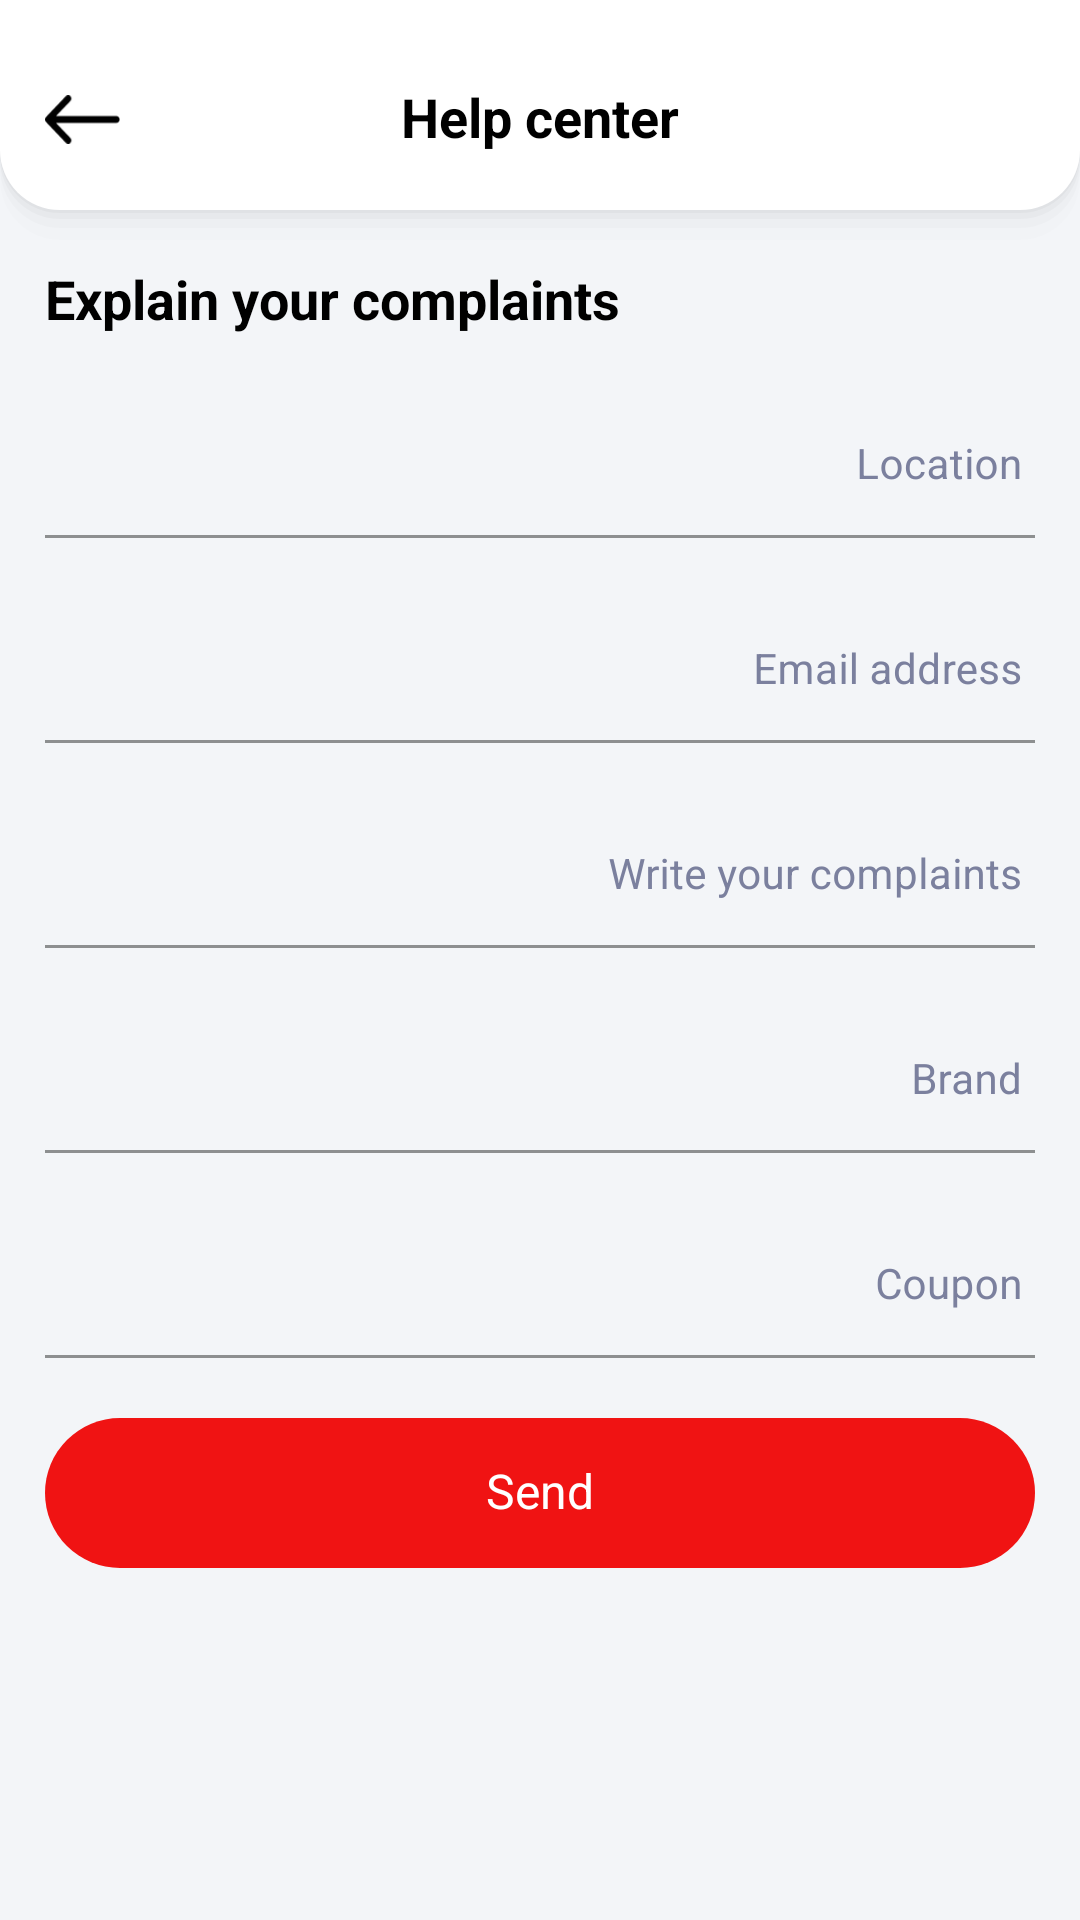

Icon bounding boxes for this 1080px x 1920px phone screenshot, format BBox(x1, y1, x2, y2):
back: BBox(45, 95, 120, 144)
